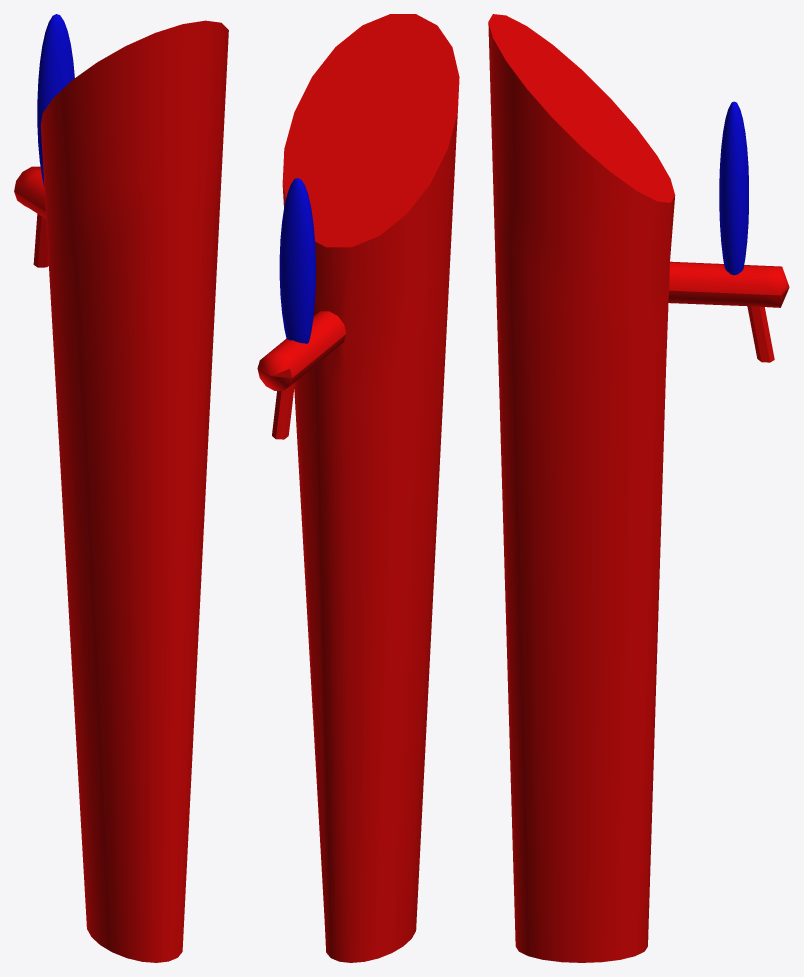
The model's file is Tireuse_1.fbx.
3 renders of one model, left to right at view 1: azimuth 30°, elevation 25°; view 2: azimuth 150°, elevation 25°; view 3: azimuth 270°, elevation 25°, orthographic. The views are drawn at different scales.
Visible parts, largest first — view 1: pCylinder3, pSphere10; view 2: pCylinder3, pSphere10; view 3: pCylinder3, pSphere10.
Part boxes in pixels (x1,y1,x2,y2): pCylinder3: (14, 20, 228, 962); pSphere10: (37, 14, 74, 185); pCylinder3: (257, 14, 459, 962); pSphere10: (279, 178, 315, 343); pCylinder3: (488, 14, 789, 962); pSphere10: (719, 101, 748, 275).
Size of the model in its own units: 23.99 by 133 by 39.35.
